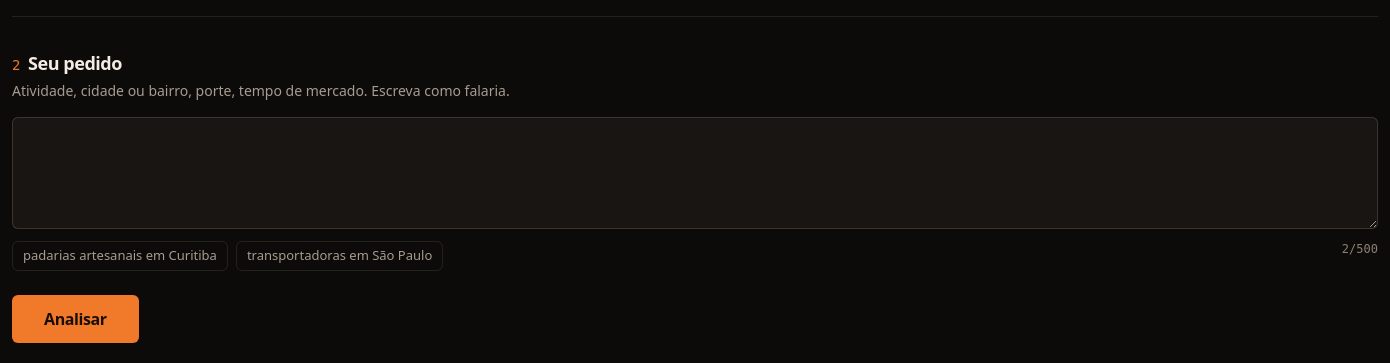
Test: RequestForm › limpa o erro ao digitar e marca o campo como inválido
This screenshot has width=1390, height=363.
Click the button "Analisar": (75, 318) [12, 294, 139, 342]
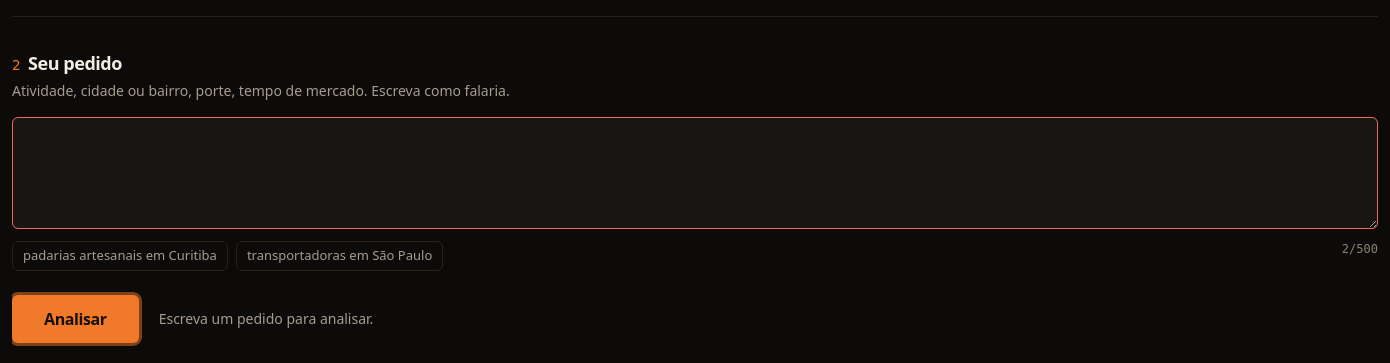
Expected: the message shows "Escreva um pedido", [159, 308, 373, 328]
In the text box labelled "2Seu pedido": (695, 173) [12, 117, 1378, 229], type "x"
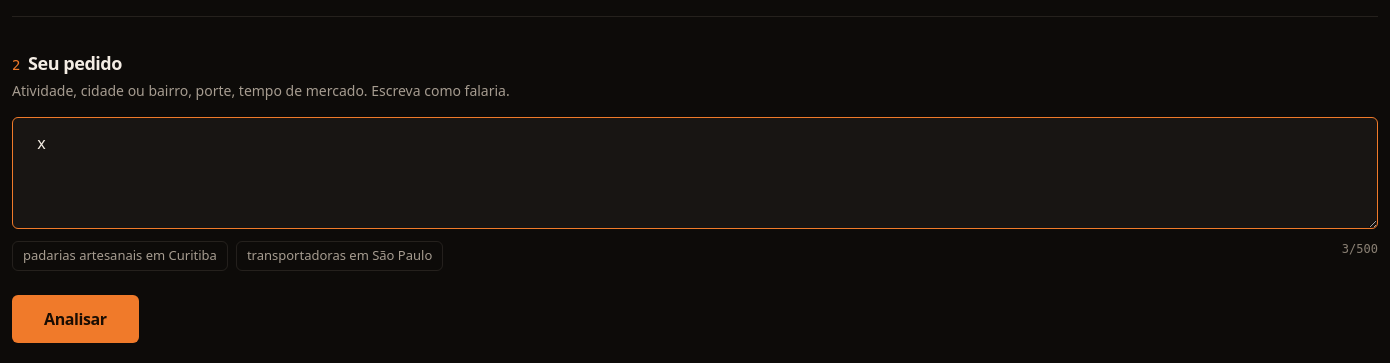
Expected: the text "Escreva um pedido" is gone
